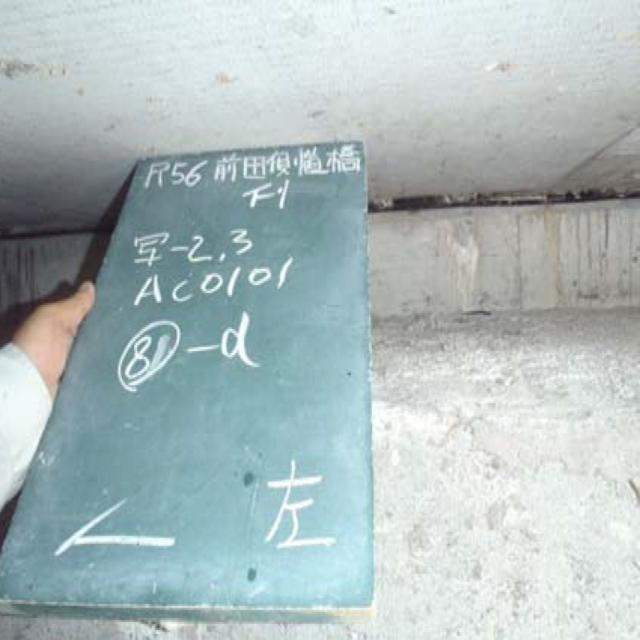spalling: (444, 221, 504, 310)
